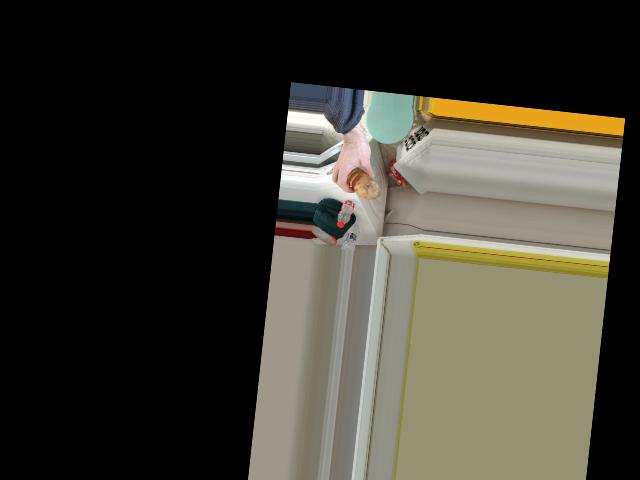sweet_potato: (347, 167, 381, 202)
